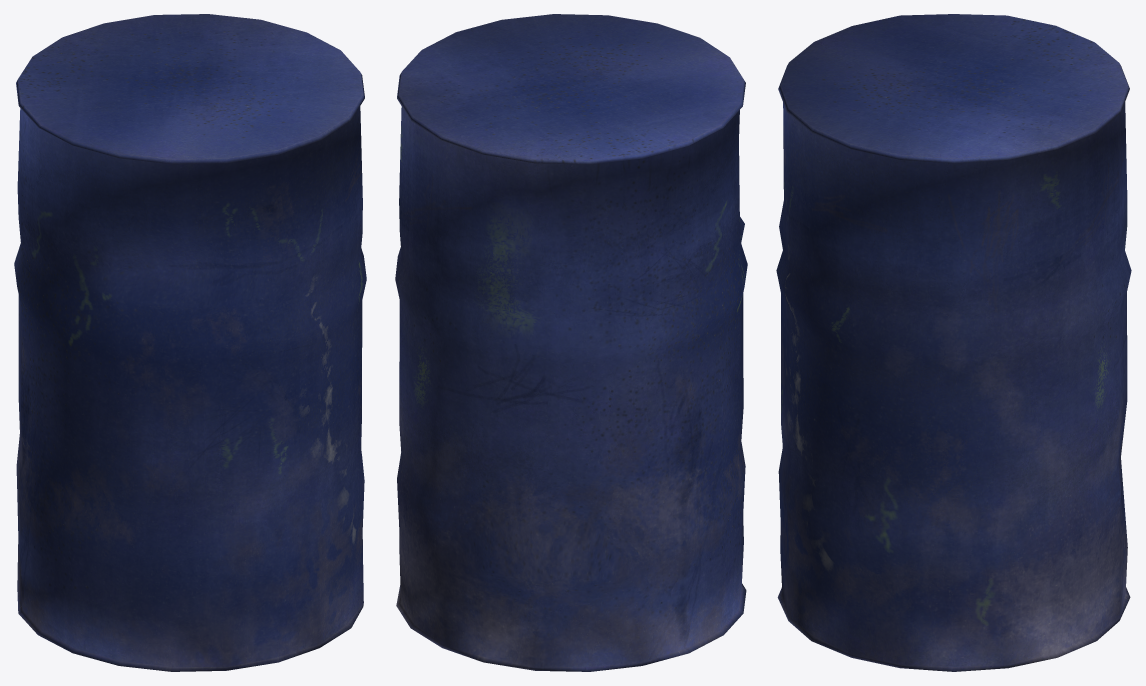
Rendered from Oil drum 1,1.fbx.
3 renders of one model, left to right at view 1: azimuth 30°, elevation 25°; view 2: azimuth 150°, elevation 25°; view 3: azimuth 270°, elevation 25°, orthographic.
Parts seen in each view (by area): view 1: Oil_Drum_001_LOD0; view 2: Oil_Drum_001_LOD0; view 3: Oil_Drum_001_LOD0.
Boxes of the visible parts, <box> form: Oil_Drum_001_LOD0: <box>14,14,366,671</box>; Oil_Drum_001_LOD0: <box>395,14,747,671</box>; Oil_Drum_001_LOD0: <box>776,14,1131,671</box>.
Size of what is drawn, in the model's own units: 53.22 by 84.84 by 53.22.
